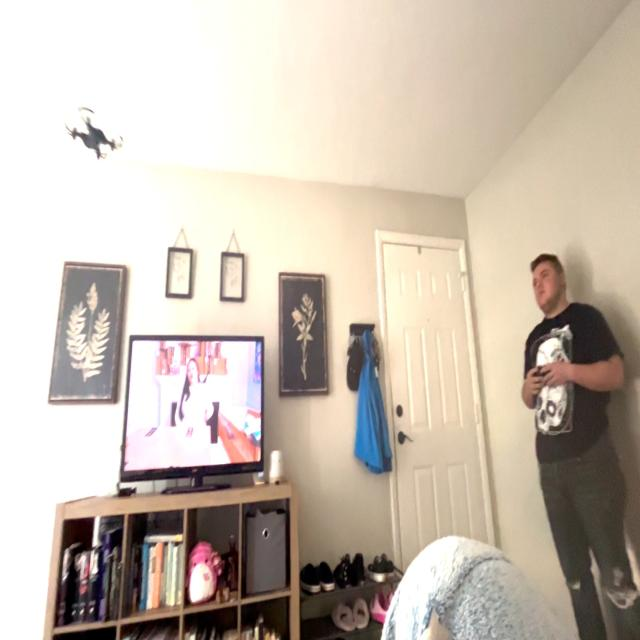drone: (47, 85, 129, 170)
